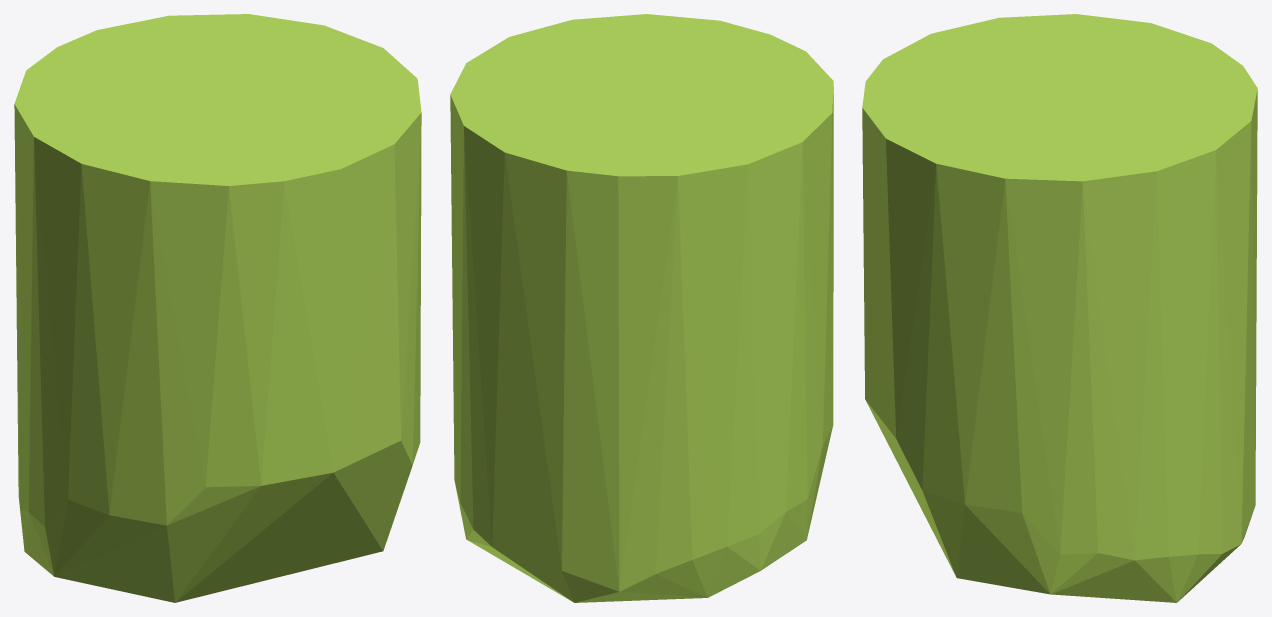
Rendered from ur10e_link_3_coll_4.dae.
3 renders of one model, left to right at view 1: azimuth 30°, elevation 25°; view 2: azimuth 150°, elevation 25°; view 3: azimuth 270°, elevation 25°, orthographic. The views are drawn at different scales.
Parts seen in each view (by area): view 1: node; view 2: node; view 3: node.
Boxes of the visible parts, bbox=[...] form: node: bbox=[14, 14, 421, 602]; node: bbox=[450, 14, 833, 602]; node: bbox=[862, 14, 1257, 602].
Size of the model in its own units: 0.0899 by 0.1127 by 0.0898.
